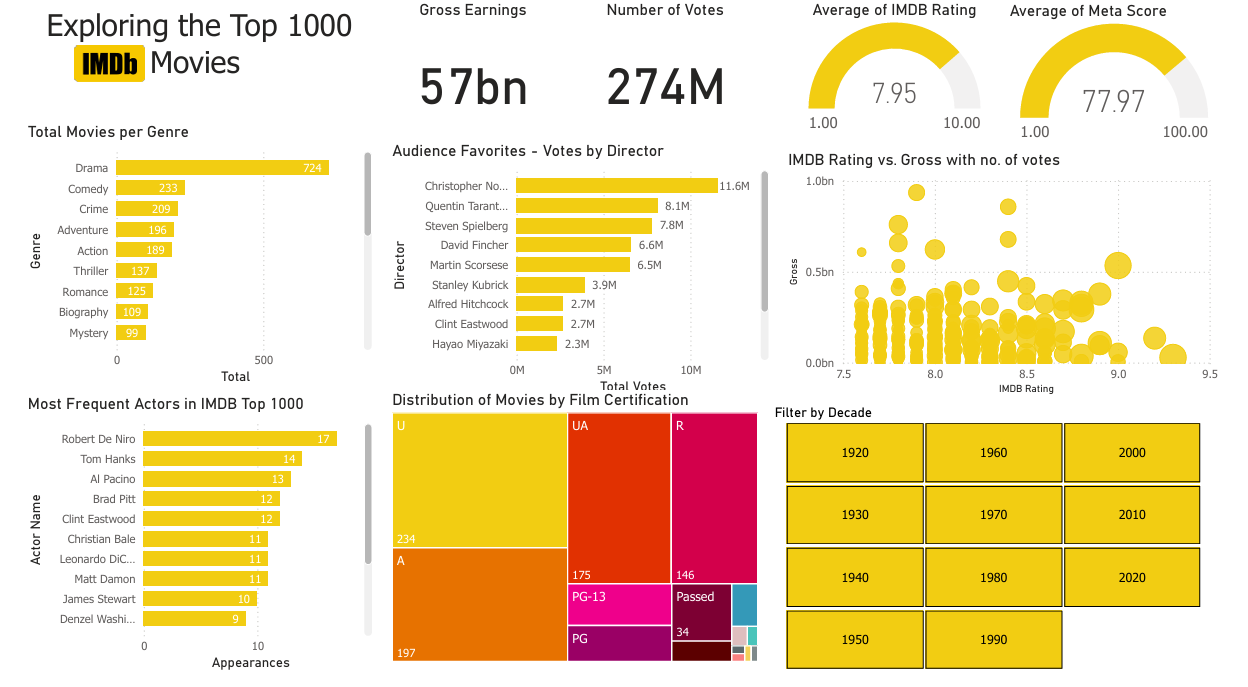

The page's visual inventory and layout, read from the dashboard file:
{"tool":"powerbi","page":{"name":"Page 1","canvas":[1280,720],"ordinal":0},"visuals":[{"type":"gauge","title":"Average of IMDB Rating","fields":{"Y":["imdb_top_1000.IMDB_Rating"]},"box":[812.9,0,234.3,150],"z":0},{"type":"gauge","title":"Average of Meta Score","fields":{"Y":["imdb_top_1000.Meta_score"]},"box":[1047.1,1.4,232.9,158.6],"z":1000},{"type":"barChart","title":"Total Movies per Genre","fields":{"Category":["imdb_top_1000_again.Genre"],"Y":["imdb_top_1000_again.Genre"]},"box":[0,130,376.7,285],"z":2000},{"type":"scatterChart","title":"IMDB Rating vs. Gross with no. of votes","fields":{"X":["imdb_top_1000.IMDB_Rating"],"Y":["imdb_top_1000.Gross"],"Size":["imdb_top_1000.No_of_Votes"]},"box":[811.4,160,468.6,265.7],"z":3000},{"type":"clusteredBarChart","title":"Audience Favorites - Votes by Director","fields":{"Category":["imdb_top_1000.Director"],"Y":["imdb_top_1000.No_of_Votes"]},"box":[388.6,150,411.4,275.7],"z":4000},{"type":"card","title":"Gross Earnings","fields":{"Values":["imdb_top_1000.Gross"]},"box":[365,0,230,150],"z":5000},{"type":"clusteredBarChart","title":"Most Frequent Actors in IMDB Top 1000","fields":{"Category":["imdb_top_1000 (2).Stars"],"Y":["imdb_top_1000 (2).Stars"]},"box":[0,420,377.1,300],"z":6000},{"type":"slicer","fields":{"Values":["imdb_top_1000.Released_Year (bins)"]},"box":[788.6,425.7,491.4,294.3],"z":7000},{"type":"treemap","title":"Distribution of Movies by Film Certification","fields":{"Values":["imdb_top_1000.Certificate"],"Group":["imdb_top_1000.Certificate"]},"box":[388.6,415.7,400,294.3],"z":9000},{"type":"textbox","box":[17.1,1.4,341.4,104.3],"z":10000},{"type":"image","box":[50,38.2,85.5,58.2],"z":11000},{"type":"card","title":"Number of Votes","fields":{"Values":["imdb_top_1000.No_of_Votes"]},"box":[570,0,230,150],"z":12000}]}

Visuals, with their boxes in screenshot pixels (x1, y1, x2, y2), scaled from the page's 1280x720 canvas onto the 1248x687 screenshot:
"Average of IMDB Rating" gauge: pyautogui.locateOnScreen(793, 0, 1021, 143)
"Average of Meta Score" gauge: pyautogui.locateOnScreen(1021, 1, 1247, 153)
"Total Movies per Genre" barChart: pyautogui.locateOnScreen(0, 124, 367, 396)
"IMDB Rating vs. Gross with no. of votes" scatterChart: pyautogui.locateOnScreen(791, 153, 1247, 406)
"Audience Favorites - Votes by Director" clusteredBarChart: pyautogui.locateOnScreen(379, 143, 780, 406)
"Gross Earnings" card: pyautogui.locateOnScreen(356, 0, 580, 143)
"Most Frequent Actors in IMDB Top 1000" clusteredBarChart: pyautogui.locateOnScreen(0, 401, 368, 686)
slicer - imdb_top_1000.Released_Year (bins): pyautogui.locateOnScreen(769, 406, 1247, 686)
"Distribution of Movies by Film Certification" treemap: pyautogui.locateOnScreen(379, 397, 769, 677)
textbox: pyautogui.locateOnScreen(17, 1, 350, 101)
image: pyautogui.locateOnScreen(49, 36, 132, 92)
"Number of Votes" card: pyautogui.locateOnScreen(556, 0, 780, 143)
